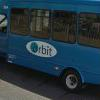Bus: (2, 1, 93, 87)
